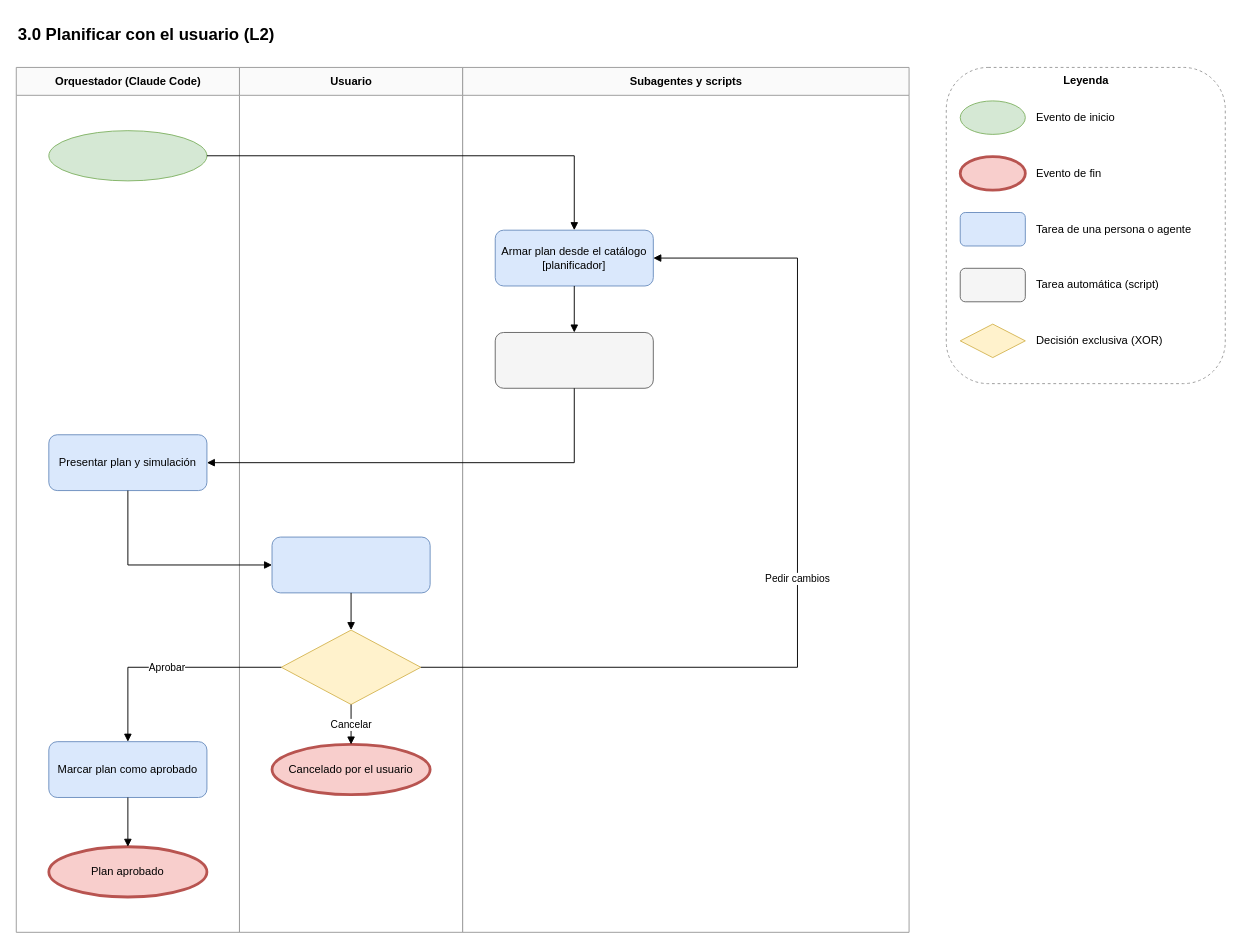
The diagram is 1242 pixels wide and 949 high, and some of its shapes have lost their labels. Here are the shapes that lost their labels. From the top down, the centre of each, then its label:
At [127,155]: "Hallazgos listos".
At [573,360]: "Simular plan sin cambios (aplicar.ps1 -Simular)".
At [350,564]: "Revisar el plan".
At [350,666]: "¿Decisión sobre el plan?".
